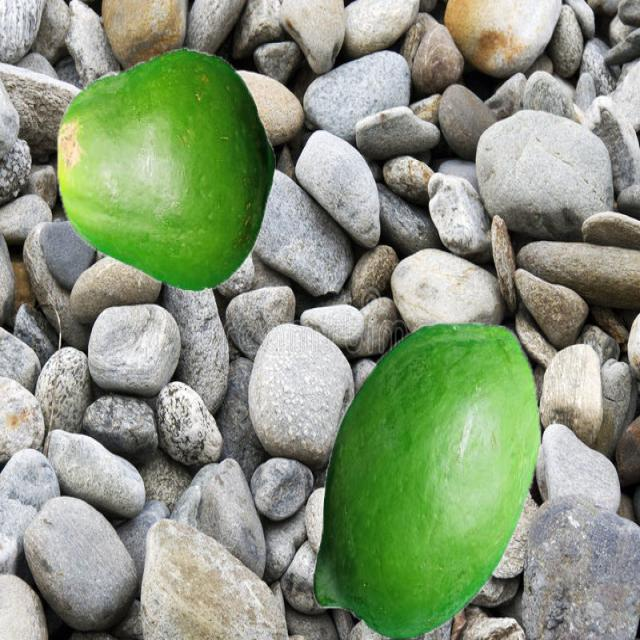Pepaya unrippen: (316, 310, 551, 634), (47, 43, 292, 301)
